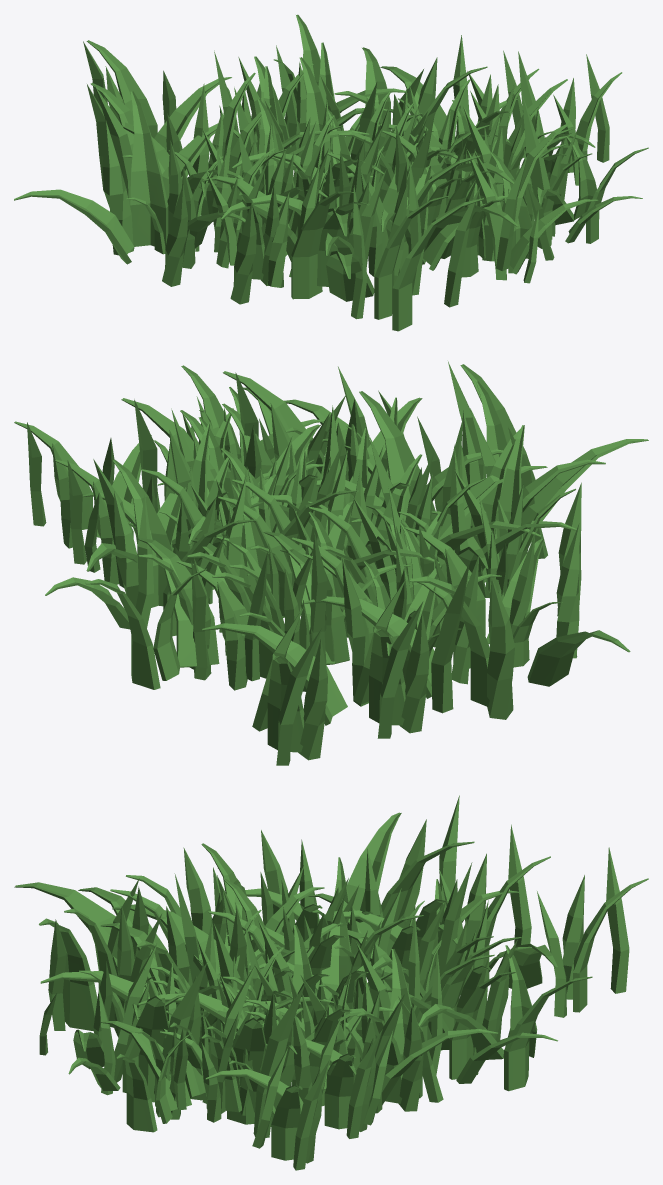
Rendered from Grass.fbx.
3 renders of one model, top to bottom at view 1: azimuth 30°, elevation 25°; view 2: azimuth 150°, elevation 25°; view 3: azimuth 270°, elevation 25°, orthographic. The views are drawn at different scales.
Parts seen in each view (by area): view 1: group7_pasted__group5_pasted__pasted__group2_pasted__pa_1873; view 2: group7_pasted__group5_pasted__pasted__group2_pasted__pa_1873; view 3: group7_pasted__group5_pasted__pasted__group2_pasted__pa_1873.
Part boxes in pixels (bbox=[...]): group7_pasted__group5_pasted__pasted__group2_pasted__pa_1873: bbox=[14, 14, 648, 331]; group7_pasted__group5_pasted__pasted__group2_pasted__pa_1873: bbox=[14, 361, 648, 765]; group7_pasted__group5_pasted__pasted__group2_pasted__pa_1873: bbox=[14, 795, 648, 1170].
Bounding box in the file's own units: 123 × 31.76 × 109.
